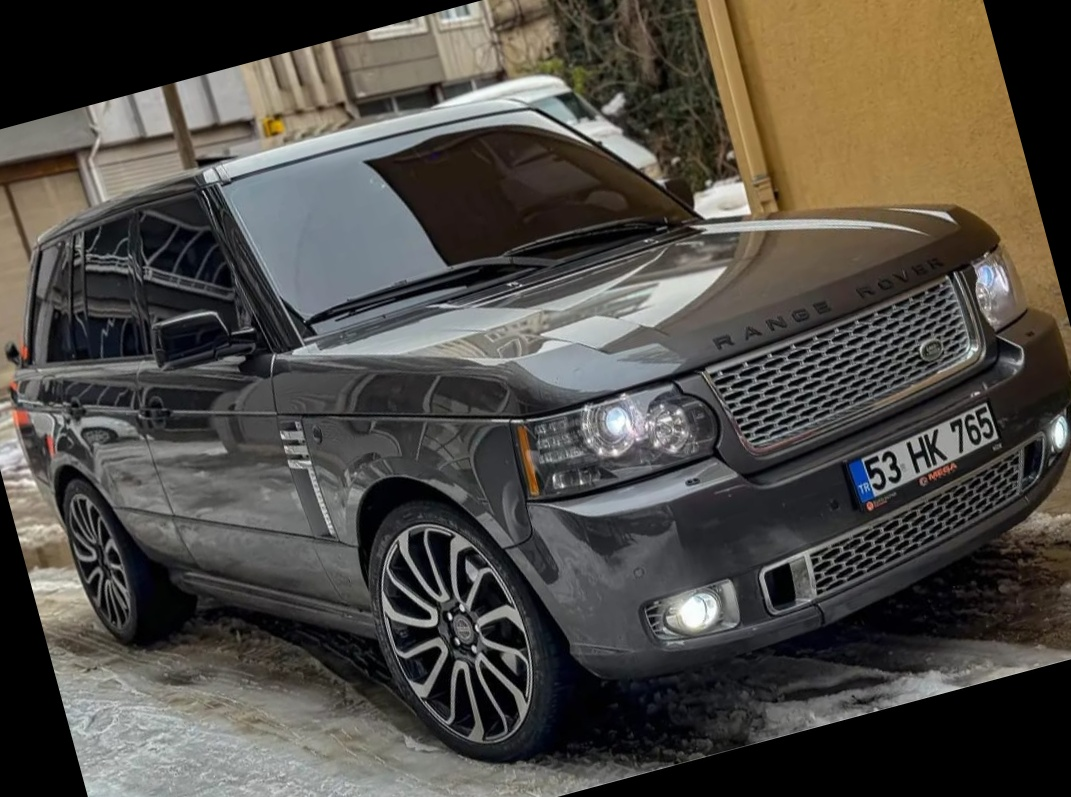plaka: (861, 402, 1008, 506)
